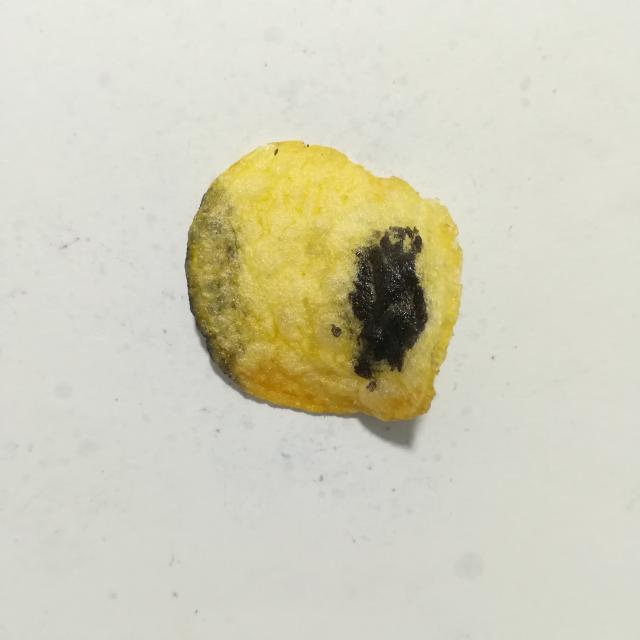chip: (185, 141, 462, 420)
damaged: (349, 227, 428, 379), (331, 324, 341, 337), (274, 148, 278, 156)
semi-damaged: (185, 177, 250, 385), (404, 251, 433, 365), (335, 255, 362, 369), (352, 230, 385, 255), (374, 362, 391, 373), (366, 378, 377, 392)
